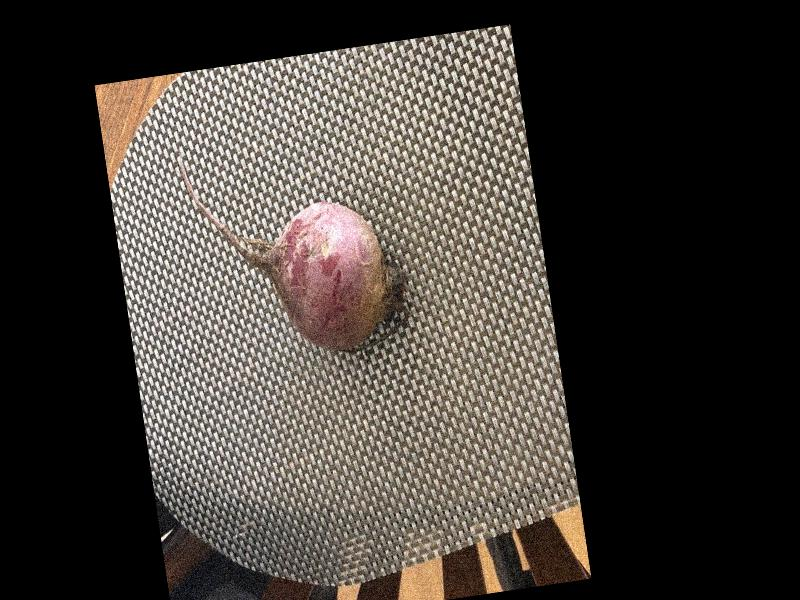Beet: (177, 126, 415, 371)
